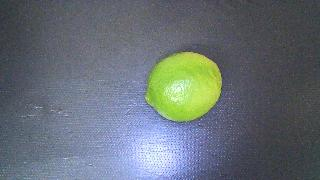EXPORTACION: (145, 52, 221, 121)
